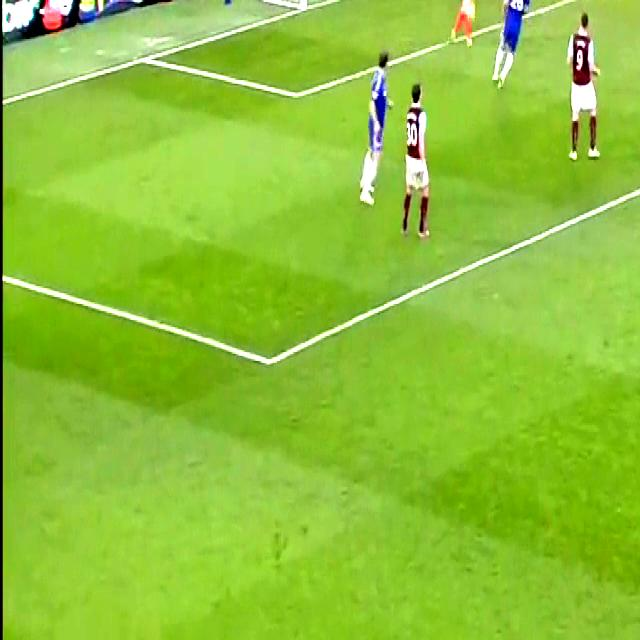goalkeeper: (447, 0, 484, 62)
soccer-player: (557, 0, 608, 172), (359, 35, 404, 216), (394, 77, 439, 255), (493, 0, 541, 94)
